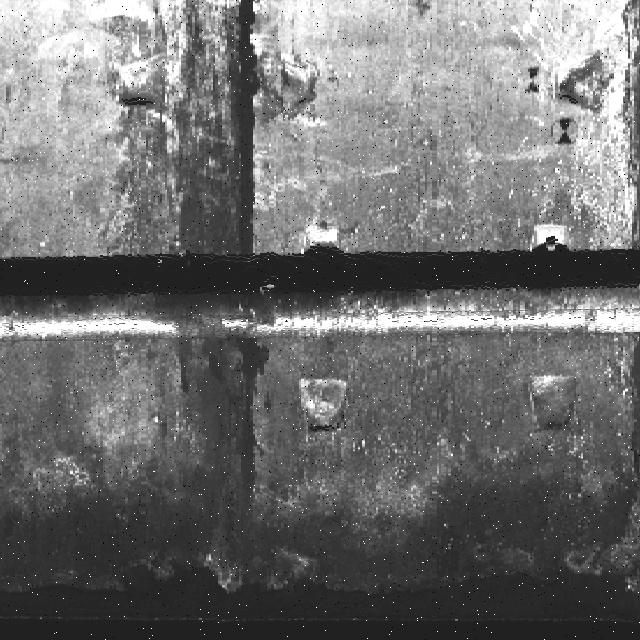leakage: (1, 497, 640, 640), (127, 1, 288, 257), (166, 336, 279, 483)
